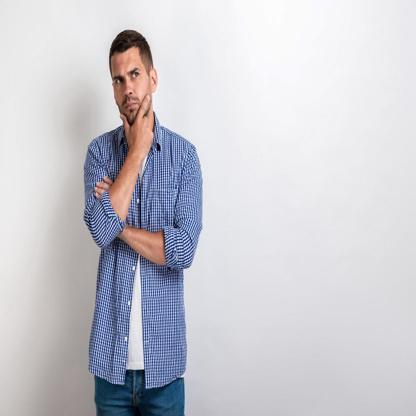person: (69, 22, 215, 416)
